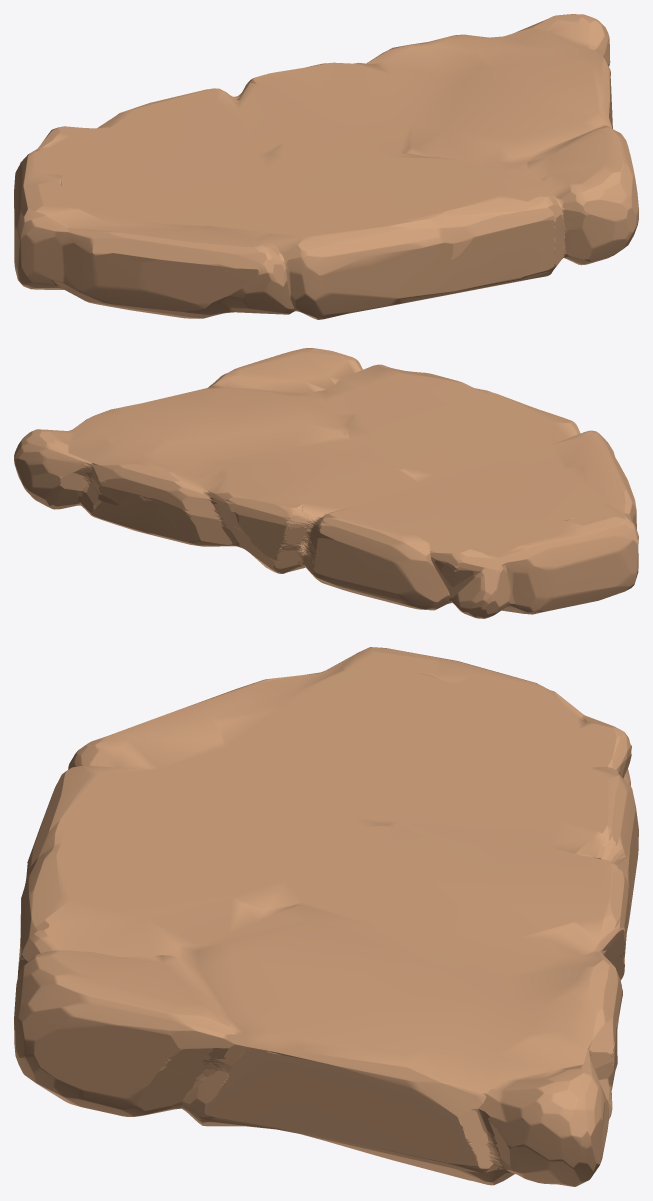
3 renders of one model, top to bottom at view 1: azimuth 30°, elevation 25°; view 2: azimuth 150°, elevation 25°; view 3: azimuth 270°, elevation 25°, orthographic. The views are drawn at different scales.
Visible parts, largest first — view 1: Mesh_115_LOD0; view 2: Mesh_115_LOD0; view 3: Mesh_115_LOD0.
Part boxes in pixels (x1,y1,x2,y2): Mesh_115_LOD0: (14,14,638,319); Mesh_115_LOD0: (14,348,638,618); Mesh_115_LOD0: (14,647,638,1186).
Size of what is drawn, in the model's own units: 3277 by 451 by 1877.
